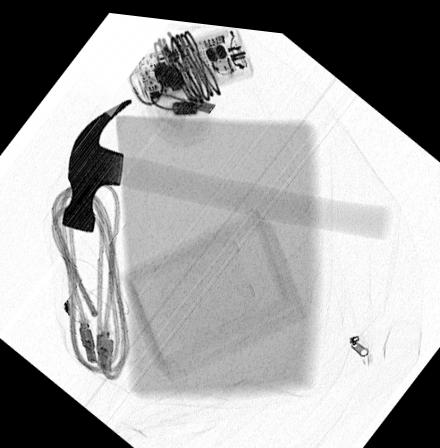Hammer: (62, 93, 386, 230)
